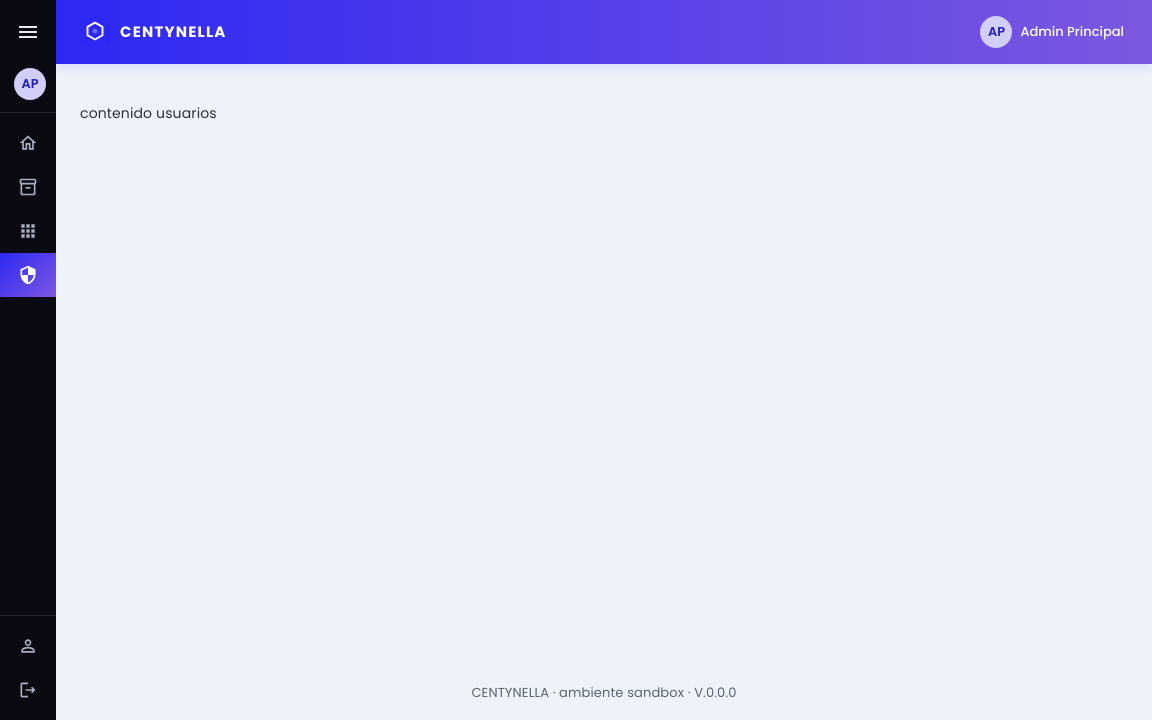
Scenario: <ShellLayout /> — menú lateral (riel + extendido) › el grupo ya viene abierto cuando la página actual es una de sus opciones
Click the button named "Abrir menú" at (28, 32), box [8,12,48,52]
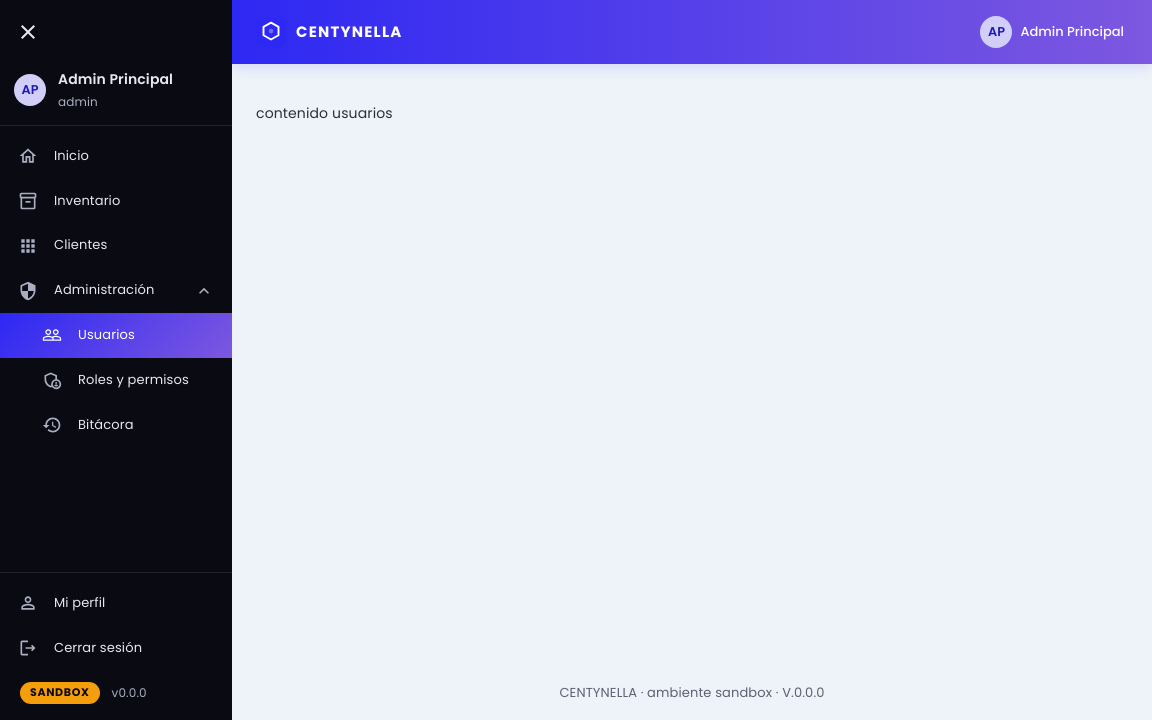
Now the button "Administración" is expanded, box [18,280,214,301]
